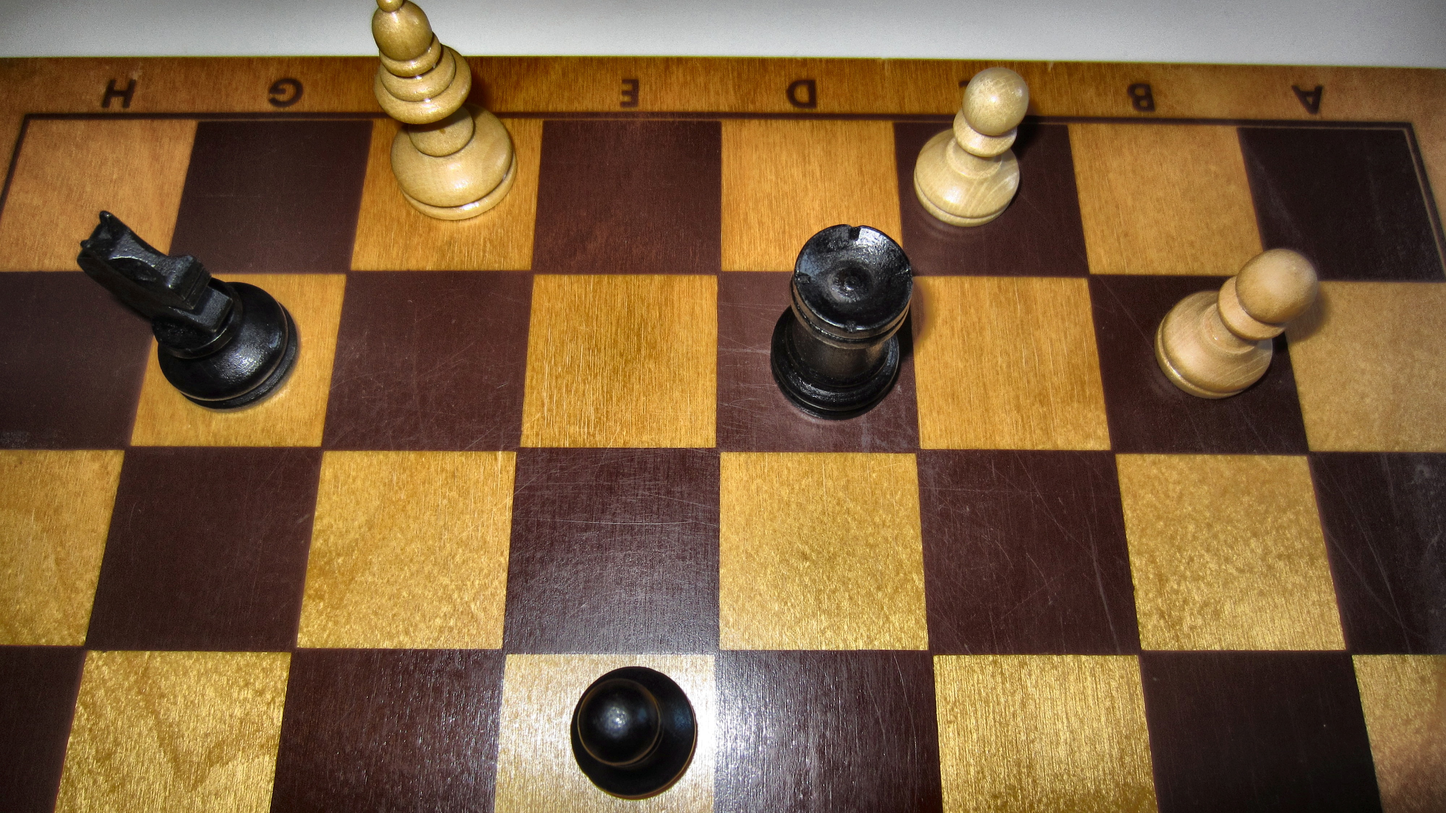black-knight: (73, 208, 302, 416)
black-pawn: (568, 665, 699, 801)
black-rook: (767, 220, 916, 422)
white-bishop: (369, 0, 521, 222)
white-pawn: (1150, 247, 1321, 400), (911, 66, 1031, 227)
